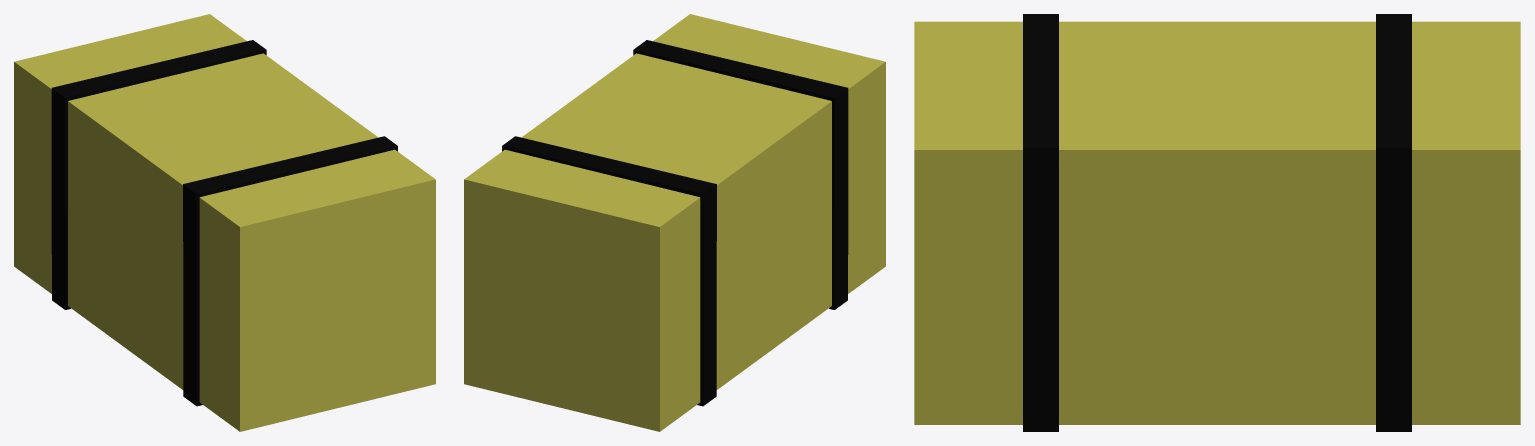
File: Hay block.fbx
The picture shows the model from 3 angles, left to right: view 1: azimuth 30°, elevation 25°; view 2: azimuth 150°, elevation 25°; view 3: azimuth 270°, elevation 25°; orthographic projection. The views are drawn at different scales.
Parts seen in each view (by area): view 1: Cube; view 2: Cube; view 3: Cube.
Part boxes in pixels (x1,y1,x2,y2): Cube: (14, 14, 435, 431); Cube: (464, 14, 885, 431); Cube: (914, 14, 1520, 431).
Size of the model in its own units: 104 by 104 by 200.
